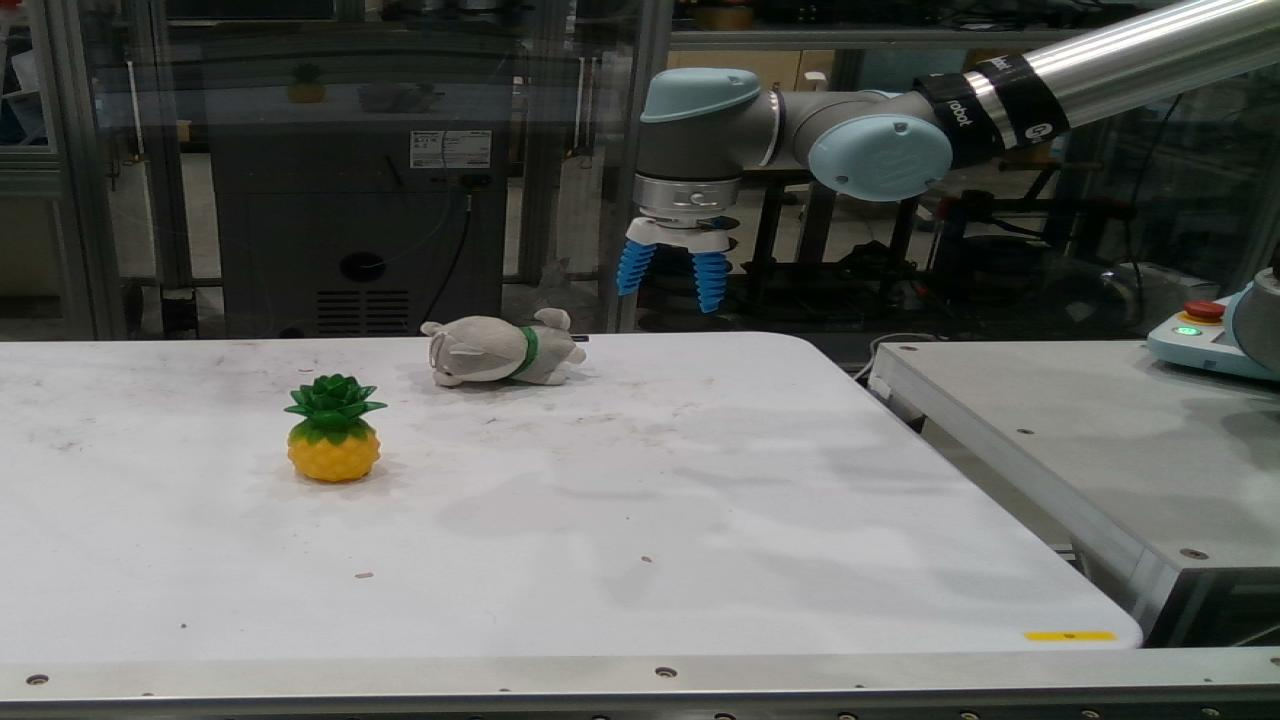UR5: (625, 0, 1279, 255), (1223, 243, 1279, 375)
gripper_left: (616, 240, 657, 297)
gripper_right: (692, 251, 726, 313)
target: (421, 308, 587, 388), (283, 373, 390, 482)
